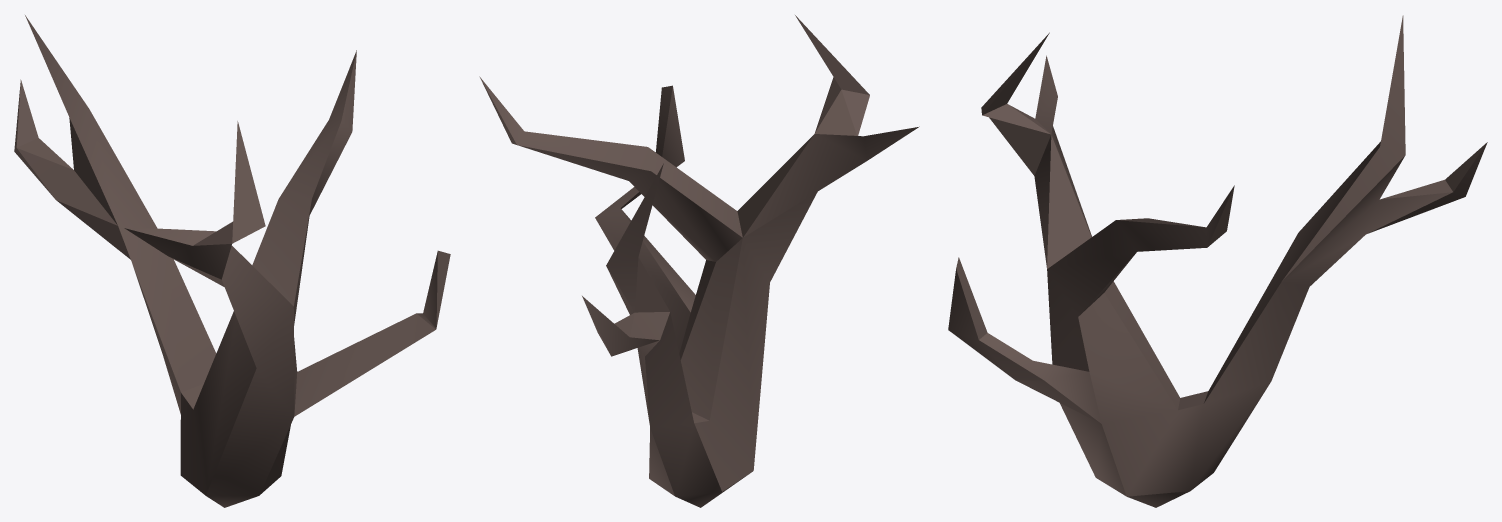
File: DeadBush.fbx
The picture shows the model from 3 angles, left to right: view 1: azimuth 30°, elevation 25°; view 2: azimuth 150°, elevation 25°; view 3: azimuth 270°, elevation 25°; orthographic projection. The views are drawn at different scales.
Visible parts, largest first — view 1: dead_bush; view 2: dead_bush; view 3: dead_bush.
Part boxes in pixels (<box>): dead_bush: <box>14,15,450,507</box>; dead_bush: <box>479,15,919,507</box>; dead_bush: <box>948,15,1487,507</box>.
Bounding box in the file's own units: 129 × 166 × 178.
